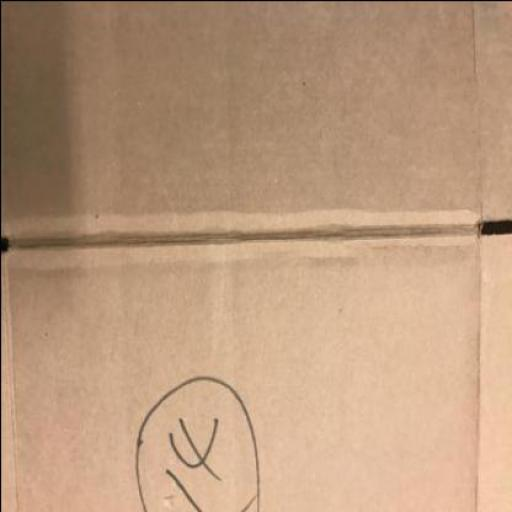cardboard: (1, 1, 511, 511)
